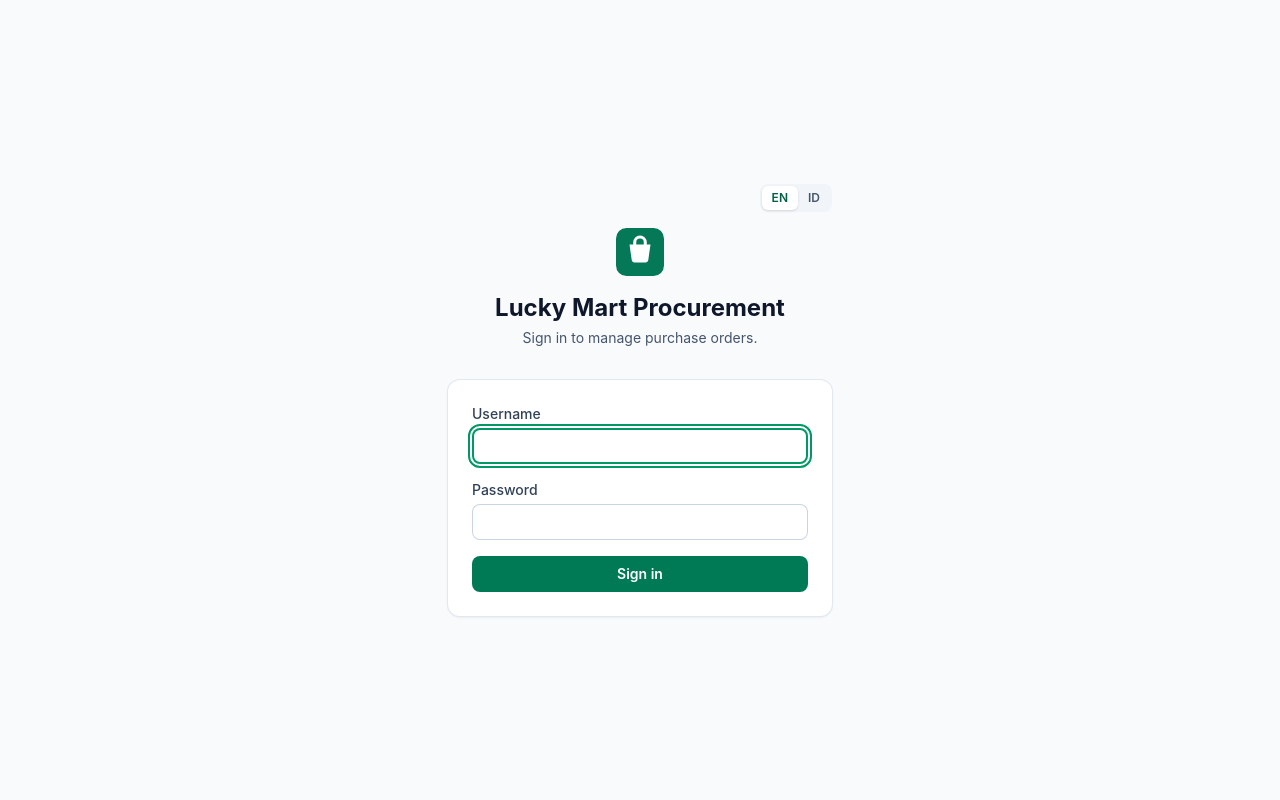
it: login › signs in, stores the tokens and shows the dashboard
Type "staff" into the field labelled "Username" at x=640, y=446, box [472,428,808,464]
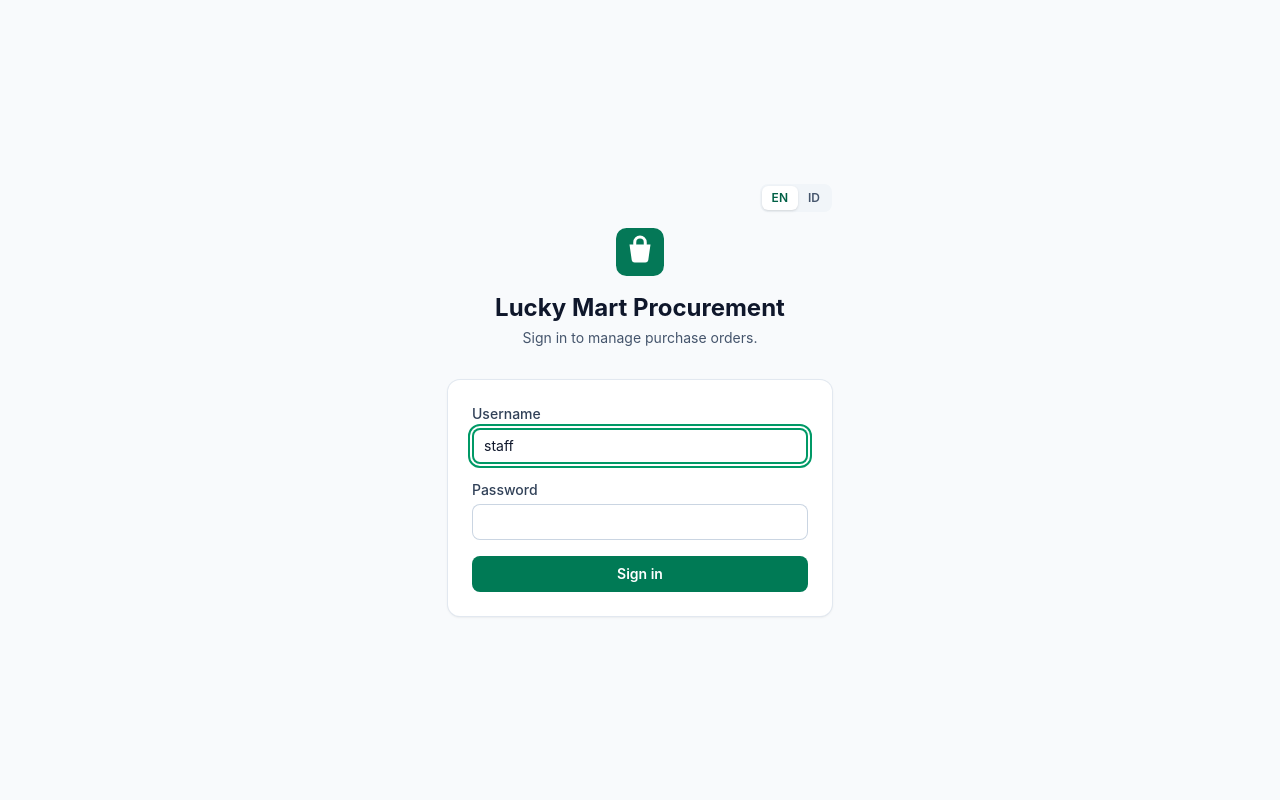
Type "secret-pass" into the password field labelled "Password" at x=640, y=522, box [472,504,808,540]
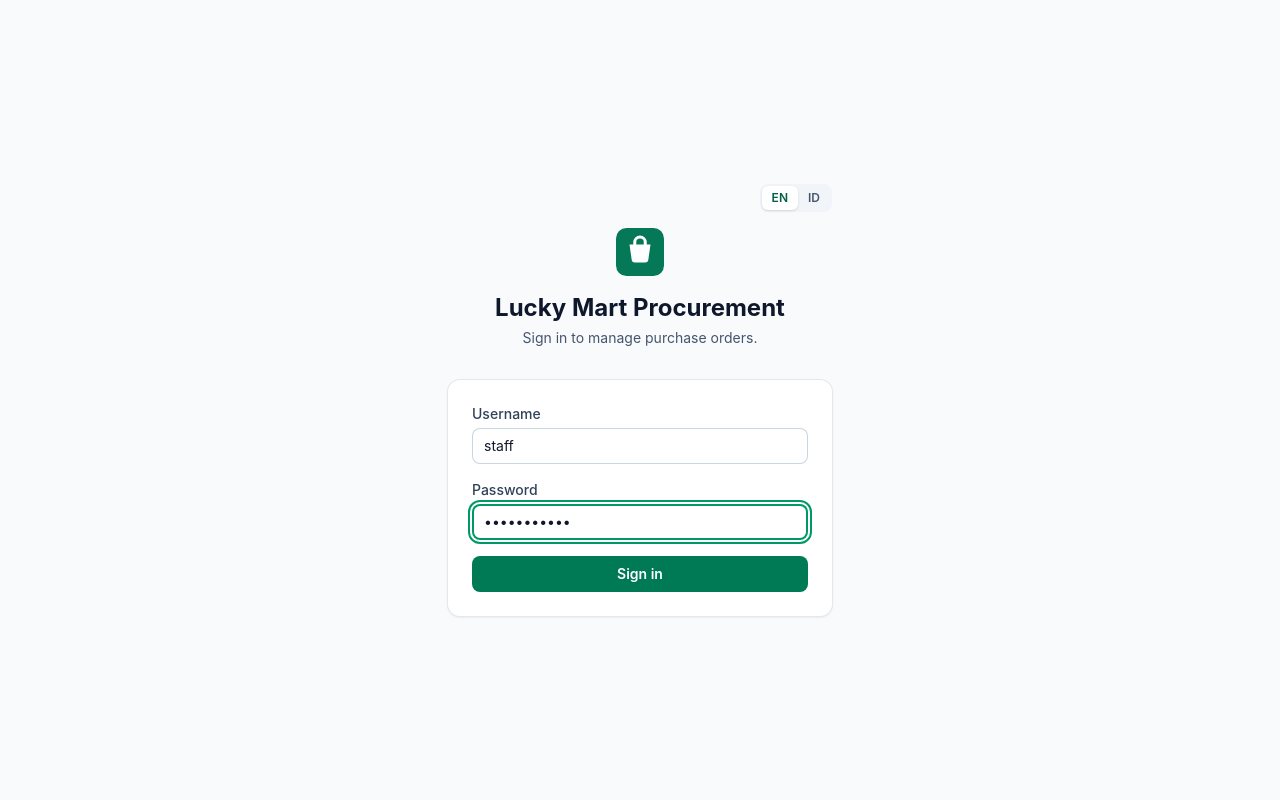
Click the button "Sign in" at x=640, y=574, box [472,556,808,592]
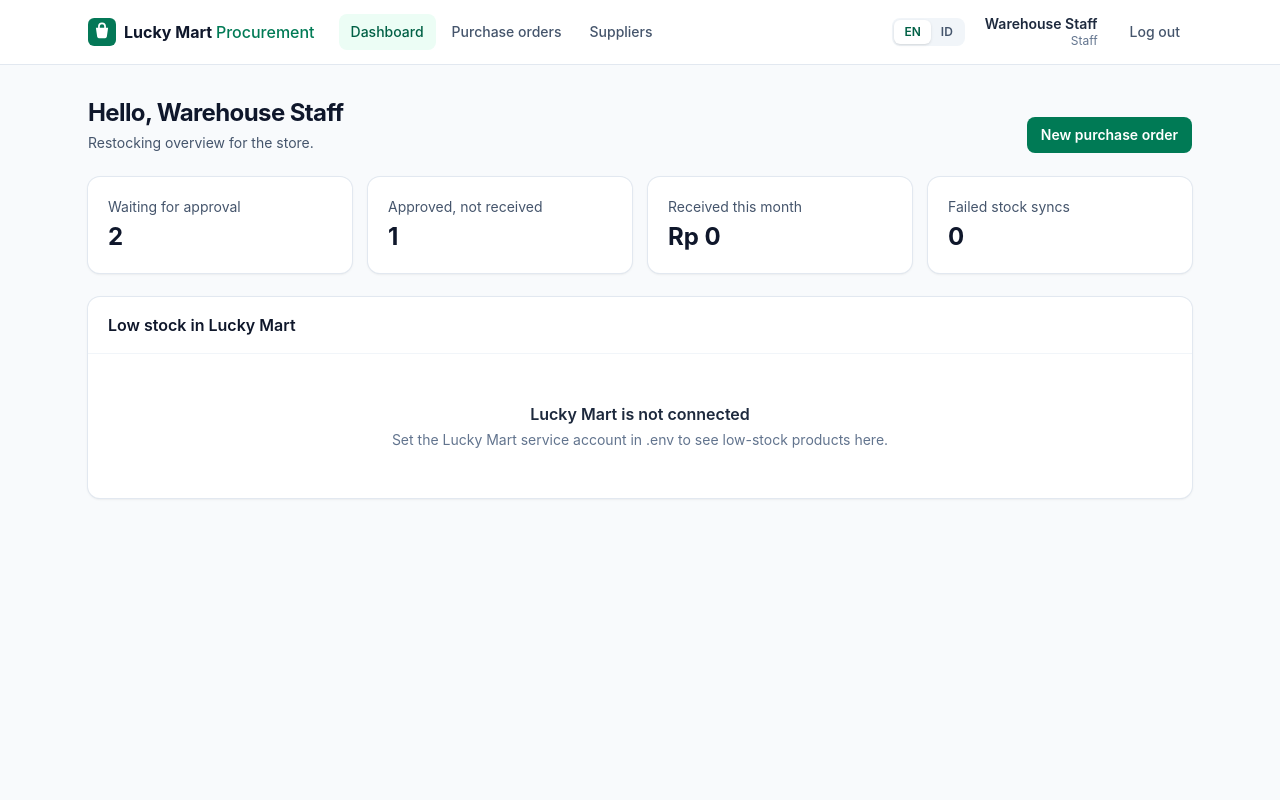
Result: the heading "Hello, Warehouse Staff" is shown at [88,97,343,129]
Result: the text "Waiting for approval" is shown at [108,198,241,215]
Result: the text "Lucky Mart is not connected" is shown at [530,404,750,424]
